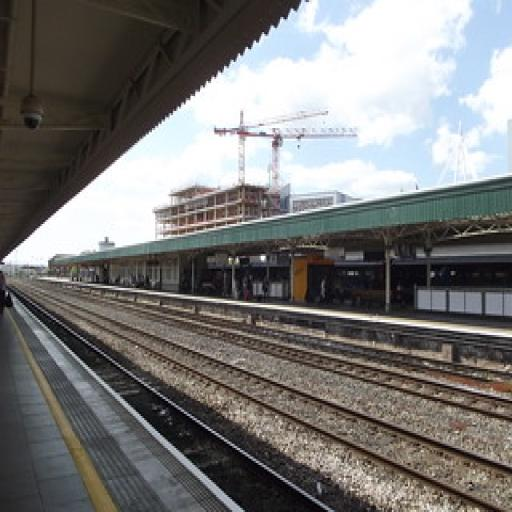platform_edge: (2, 305, 242, 512)
